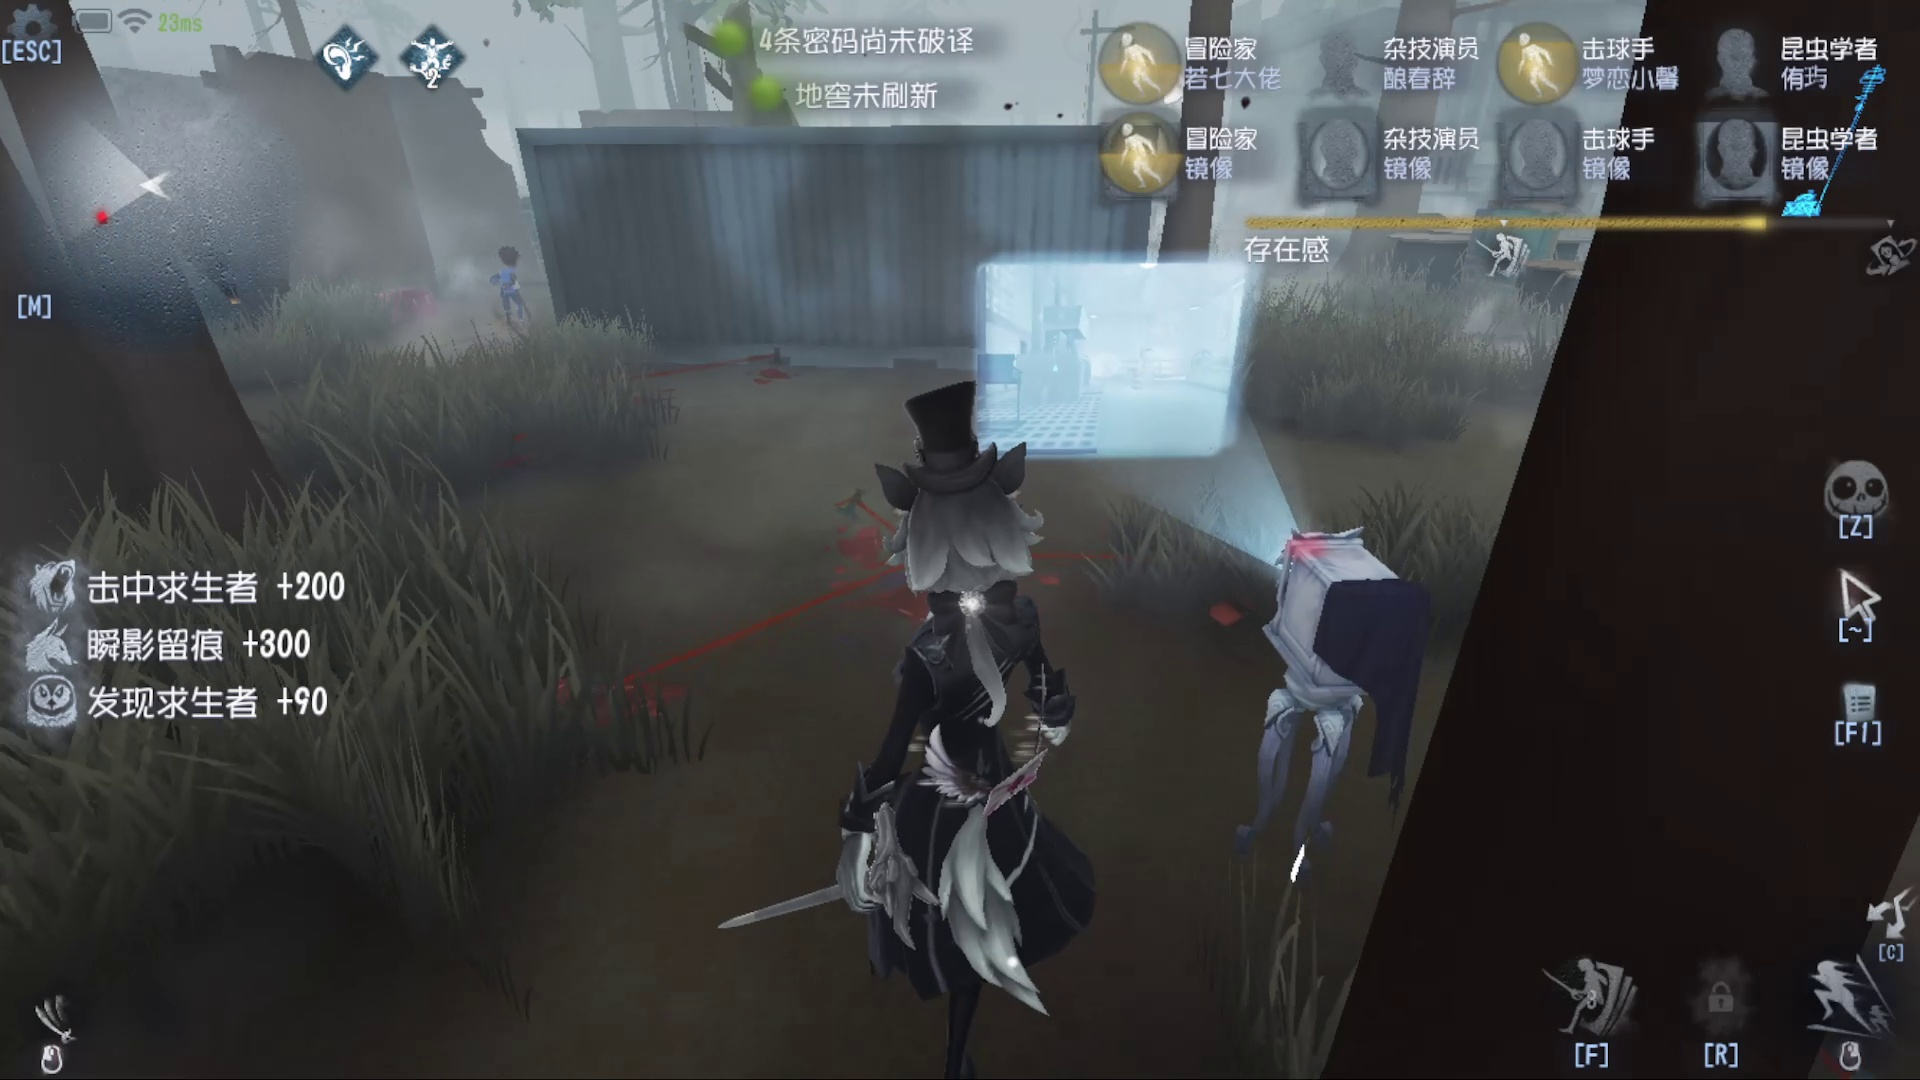求生者: (479, 244, 542, 330)
